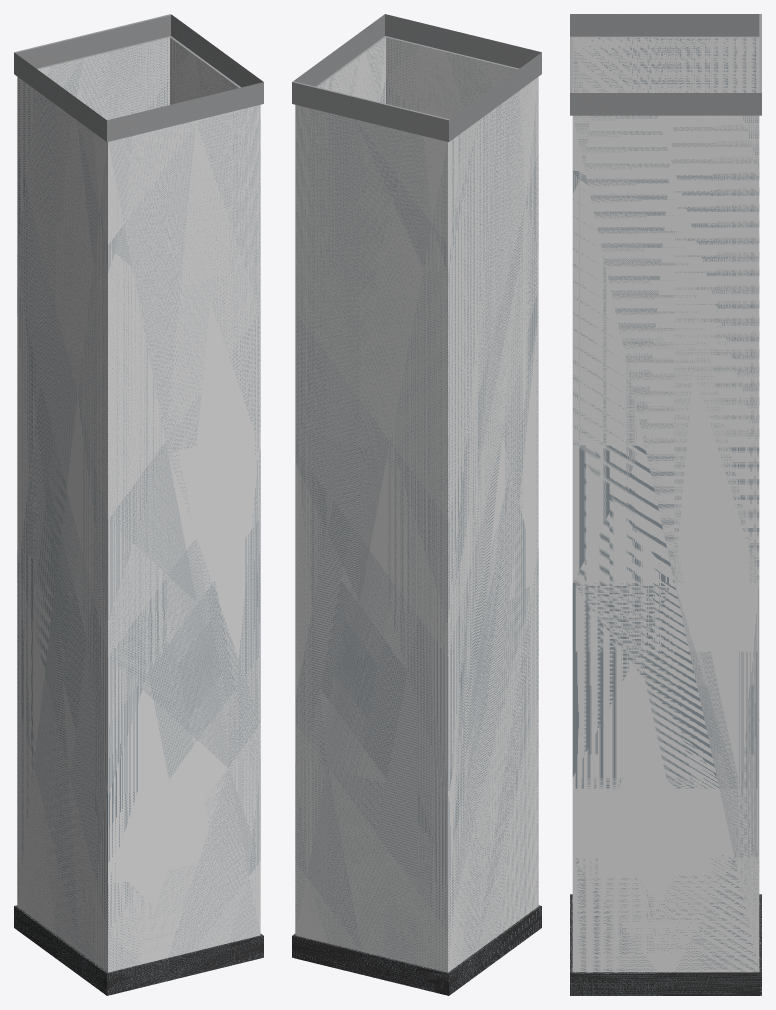
File: Column_ds_plinth_075x075x4.dae
3 views of the same model, side by side, from view 1: azimuth 30°, elevation 25°; view 2: azimuth 150°, elevation 25°; view 3: azimuth 270°, elevation 25° (orthographic). The views are drawn at different scales.
Parts seen in each view (by area): view 1: group_0 (×3); view 2: group_0 (×3); view 3: group_0 (×3).
Part boxes in pixels (x1,y1,x2,y2): group_0 (×3): [14, 14, 263, 995]; group_0 (×3): [292, 14, 541, 995]; group_0 (×3): [570, 14, 761, 995].
Size of the model in its own units: 29.53 by 30.31 by 157.
